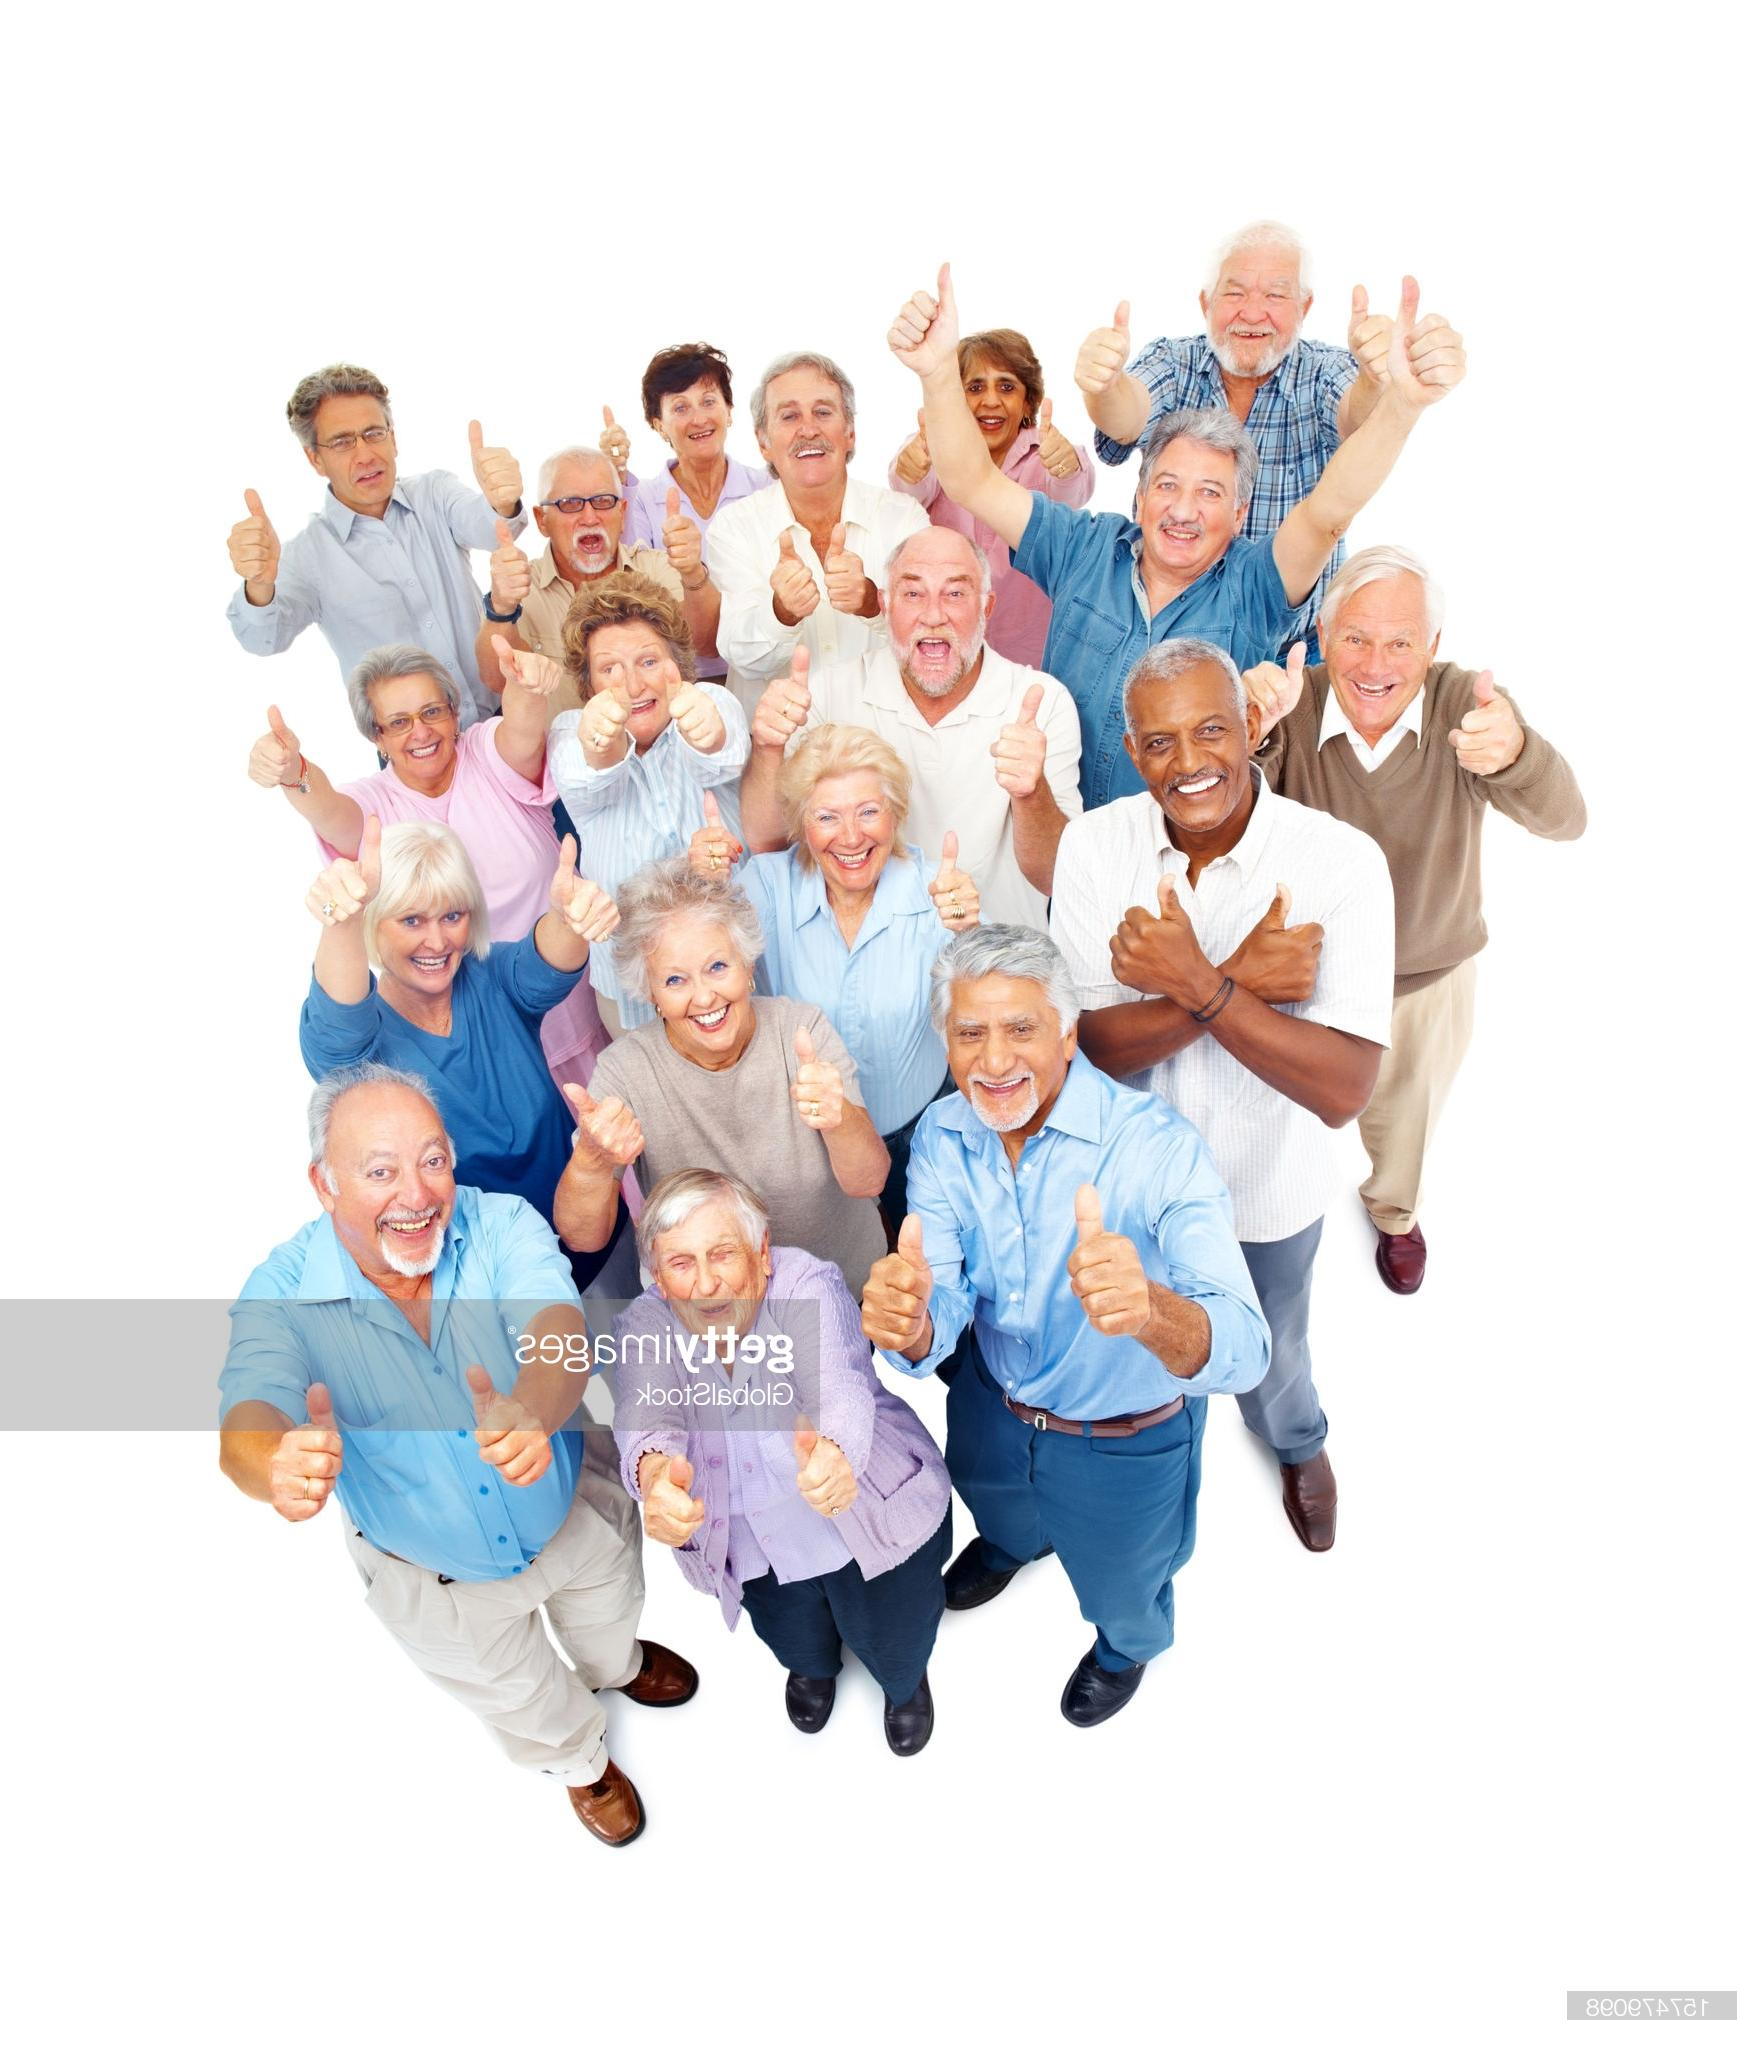thumbsup: (1067, 1183, 1151, 1338), (465, 1362, 555, 1486), (860, 1213, 936, 1352), (269, 1381, 343, 1523), (1110, 872, 1189, 984), (303, 815, 383, 927), (1398, 276, 1468, 389), (558, 834, 624, 944), (1267, 882, 1325, 1004), (562, 1082, 646, 1163), (886, 260, 956, 357), (991, 684, 1049, 796), (794, 1412, 856, 1517), (751, 642, 812, 748), (1454, 668, 1511, 775), (789, 1025, 844, 1130), (663, 656, 725, 749), (1074, 300, 1132, 394), (931, 829, 981, 934), (577, 661, 632, 754), (1244, 639, 1308, 717), (689, 791, 743, 880), (469, 419, 524, 505), (489, 632, 563, 696), (769, 529, 820, 618), (1348, 282, 1392, 382), (226, 487, 272, 580), (824, 522, 867, 613), (246, 703, 291, 787), (1037, 396, 1080, 481), (489, 517, 532, 601), (662, 486, 703, 574), (894, 406, 932, 482), (605, 405, 632, 470)
